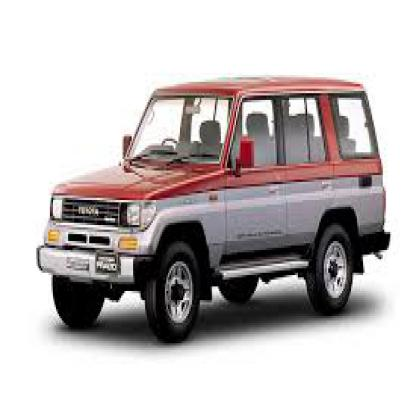jeep: (35, 75, 392, 341)
